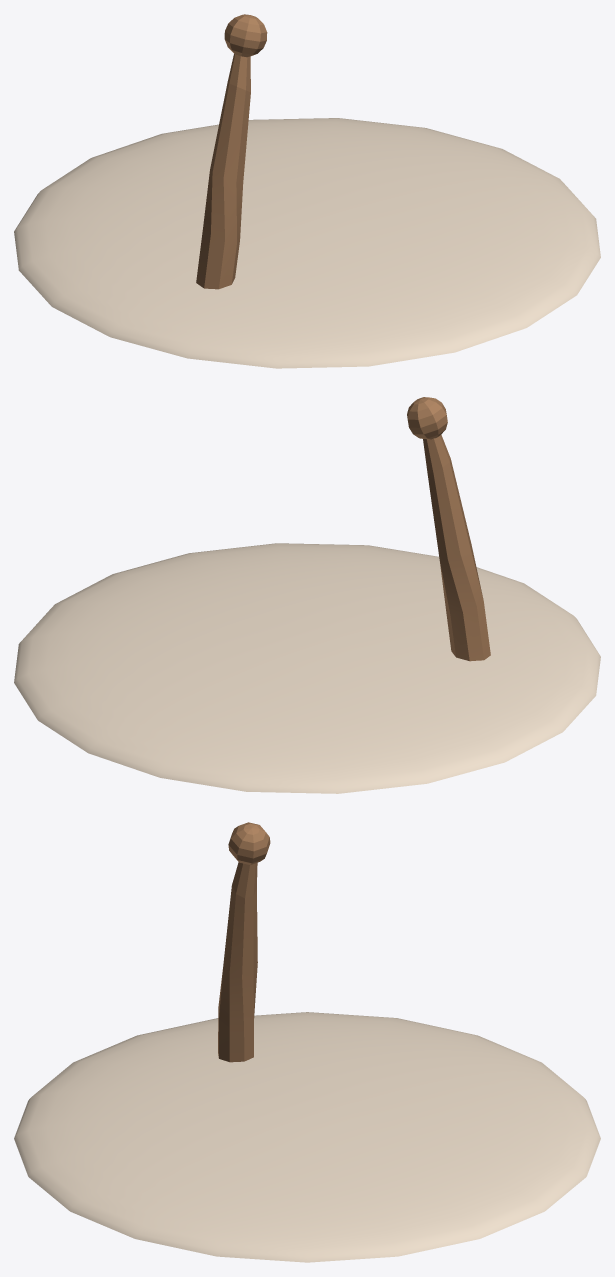
The model's file is IslandModel.fbx.
3 renders of one model, top to bottom at view 1: azimuth 30°, elevation 25°; view 2: azimuth 150°, elevation 25°; view 3: azimuth 270°, elevation 25°, orthographic.
Parts seen in each view (by area): view 1: pSphere1, TreeBody; view 2: pSphere1, TreeBody; view 3: pSphere1, TreeBody.
Boxes of the visible parts, box(x1,y1,x2,y2) form: pSphere1: box(14, 118, 600, 368); TreeBody: box(196, 14, 267, 289); pSphere1: box(14, 543, 600, 793); TreeBody: box(407, 397, 490, 661); pSphere1: box(14, 1012, 600, 1262); TreeBody: box(218, 822, 270, 1062).
Size of the model in its own units: 0.1717 by 0.0878 by 0.1717.
